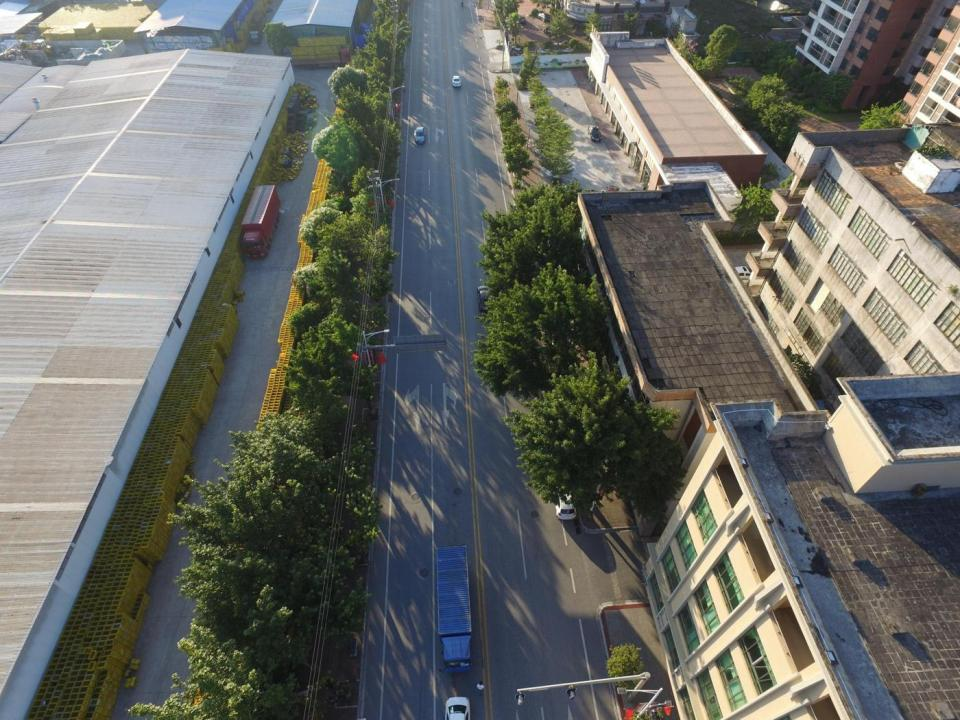car: (555, 481, 577, 522), (442, 694, 472, 720), (477, 284, 494, 313), (588, 124, 602, 143), (412, 126, 426, 144), (450, 75, 463, 88)
truck: (435, 545, 476, 674), (241, 185, 281, 260), (290, 46, 351, 70), (249, 8, 266, 45)
